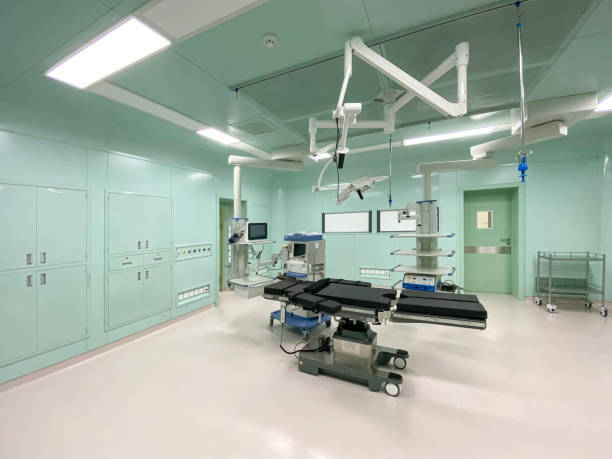bedside_monitor: (287, 240, 314, 263), (247, 220, 272, 243)
door_handle: (499, 234, 517, 248)
electrosurgical_unit: (401, 271, 438, 295)
handle: (27, 276, 34, 287), (41, 274, 48, 285), (42, 252, 49, 263), (25, 253, 32, 264), (145, 271, 150, 280), (137, 272, 142, 281), (146, 240, 151, 249), (138, 241, 143, 250)
operating_bed: (264, 278, 488, 398)
utility_cart: (534, 251, 612, 317)
